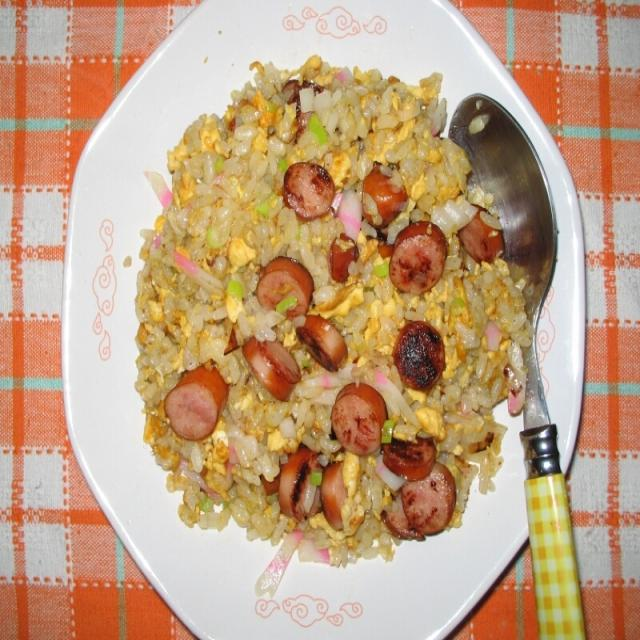米饭主食: (52, 0, 597, 640)
